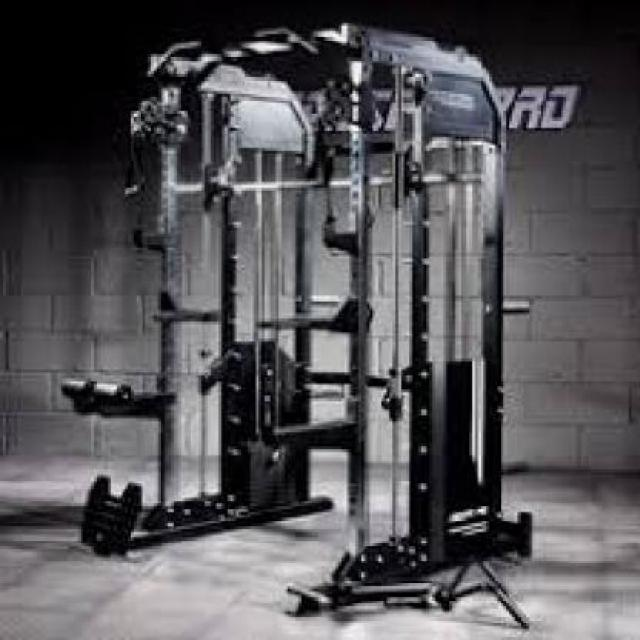smith machine: (74, 25, 509, 632)
